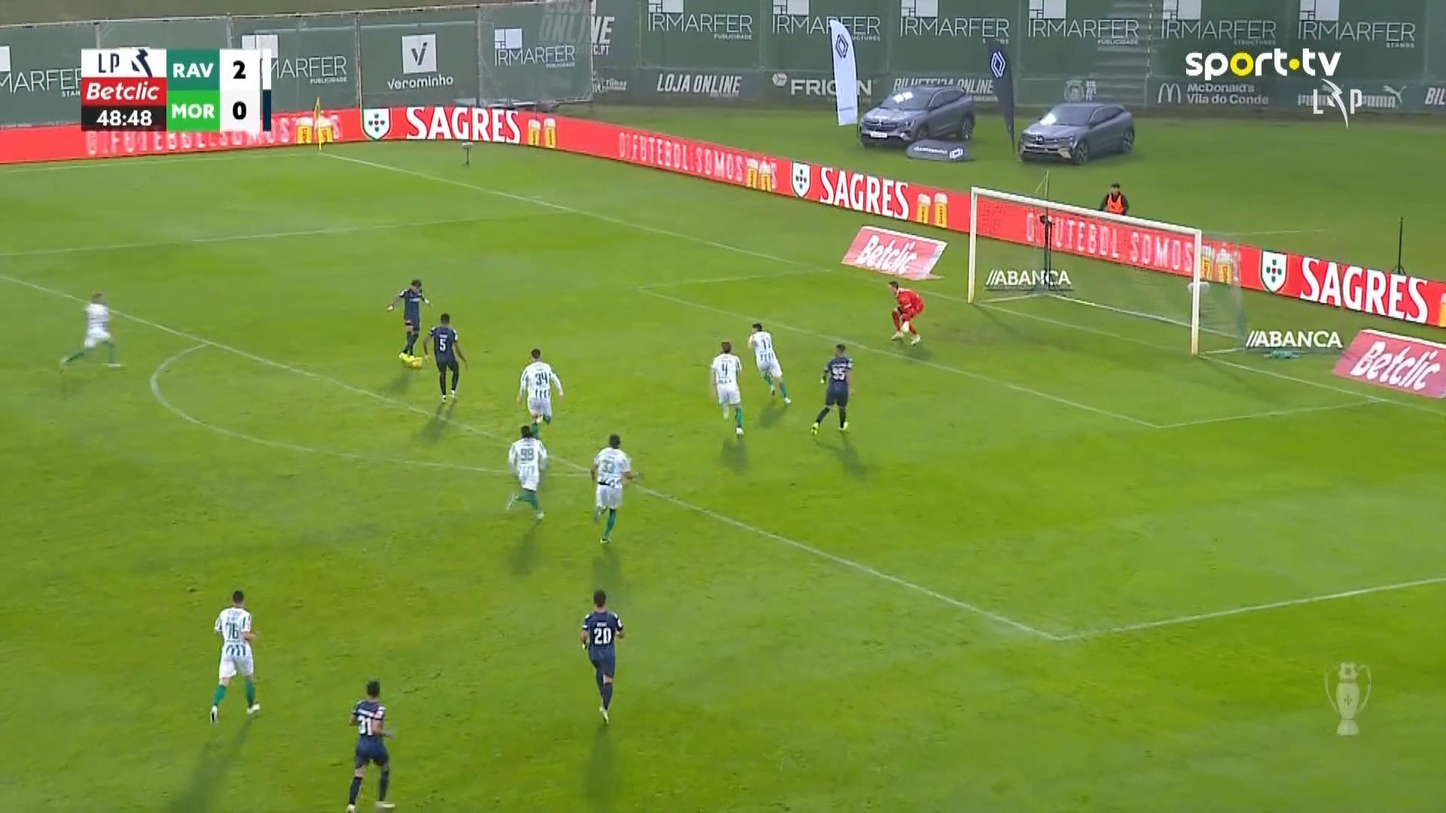ball: (407, 357, 422, 370), (579, 631, 588, 643)
goalkeeper: (886, 279, 923, 345)
player: (208, 589, 261, 723), (344, 678, 395, 811), (578, 588, 625, 725), (58, 291, 125, 374), (590, 433, 639, 544), (515, 347, 563, 439), (809, 342, 855, 436), (505, 423, 548, 521), (424, 312, 468, 402), (747, 321, 792, 405), (385, 279, 430, 358), (709, 340, 744, 437)
referee: (1097, 182, 1129, 215)
